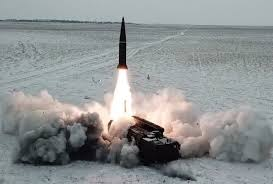ten_lua: (114, 15, 129, 69)
